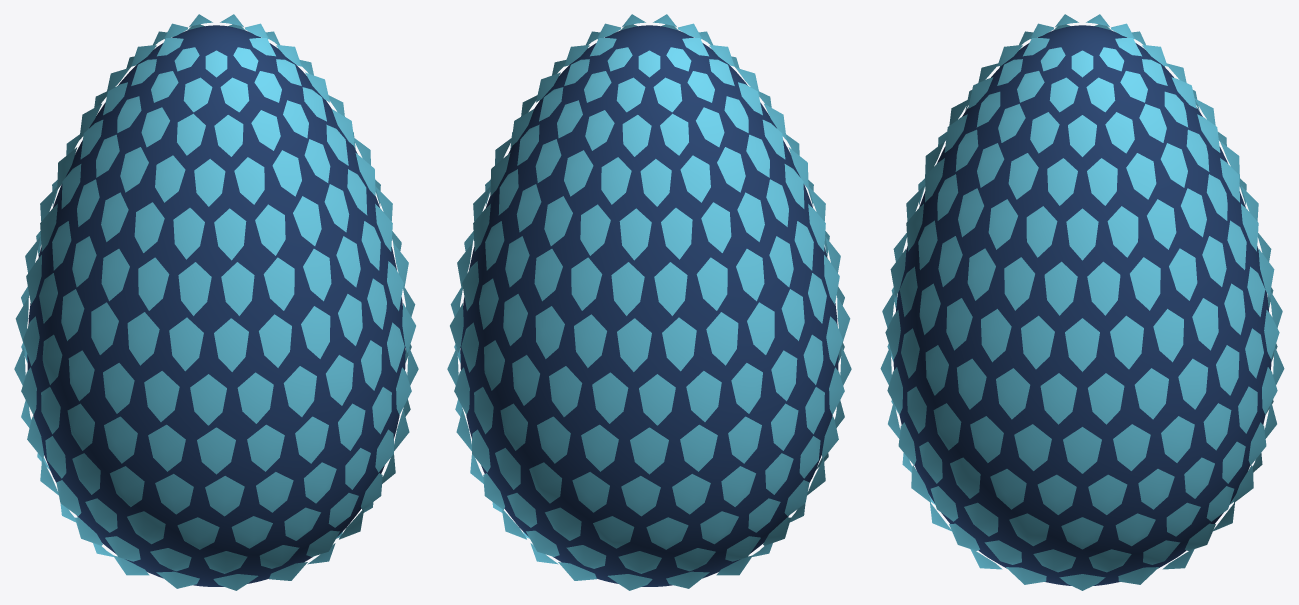
Rendered from DragonEgg_Ice.glb.
3 renders of one model, left to right at view 1: azimuth 30°, elevation 25°; view 2: azimuth 150°, elevation 25°; view 3: azimuth 270°, elevation 25°, orthographic.
Parts seen in each view (by area): view 1: EggScales, EggShell; view 2: EggScales, EggShell; view 3: EggScales, EggShell.
Part boxes in pixels (x1,y1,x2,y2): EggScales: (14,14,418,590); EggShell: (27,25,405,586); EggScales: (447,14,851,590); EggShell: (460,25,838,586); EggScales: (880,14,1284,590); EggShell: (893,25,1271,585).
Size of the model in its own units: 1.09 by 1.6 by 1.09.
